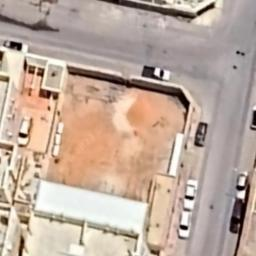SUV: (175, 208, 192, 242)
pickup: (139, 62, 174, 84)
sedan: (182, 177, 200, 212), (233, 170, 250, 200), (1, 40, 32, 54), (194, 120, 208, 150), (250, 103, 256, 131)
van: (228, 198, 246, 234)
